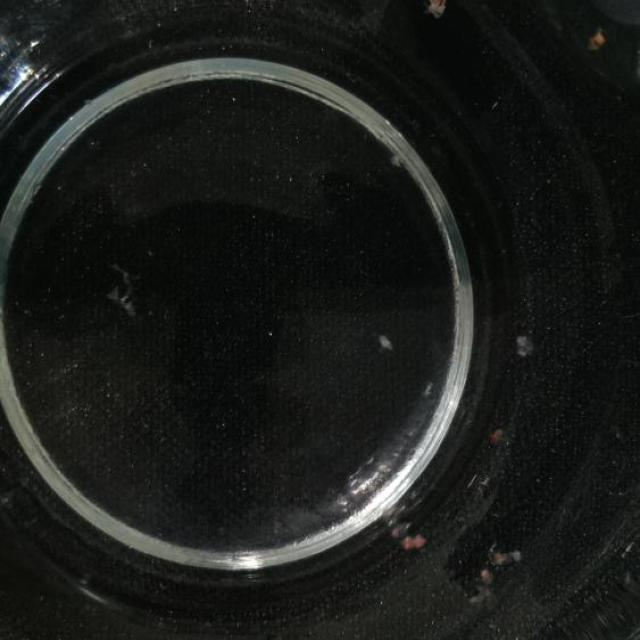fiber: (470, 542, 533, 602), (379, 510, 433, 558), (373, 322, 403, 361), (508, 331, 533, 371), (416, 0, 454, 23)
